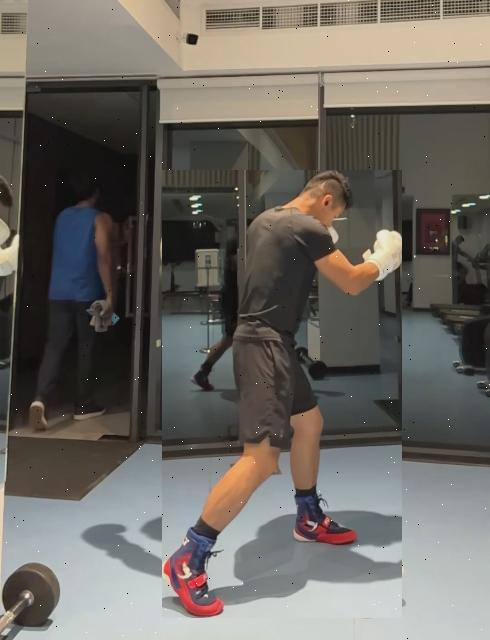punch: (162, 170, 402, 618)
